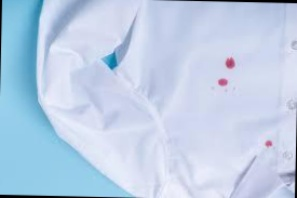blood: (225, 56, 235, 71), (218, 78, 227, 87), (265, 139, 273, 149)
